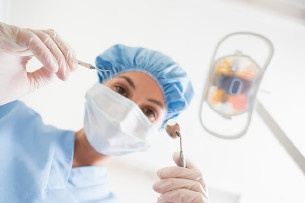Mask: (81, 72, 167, 158)
